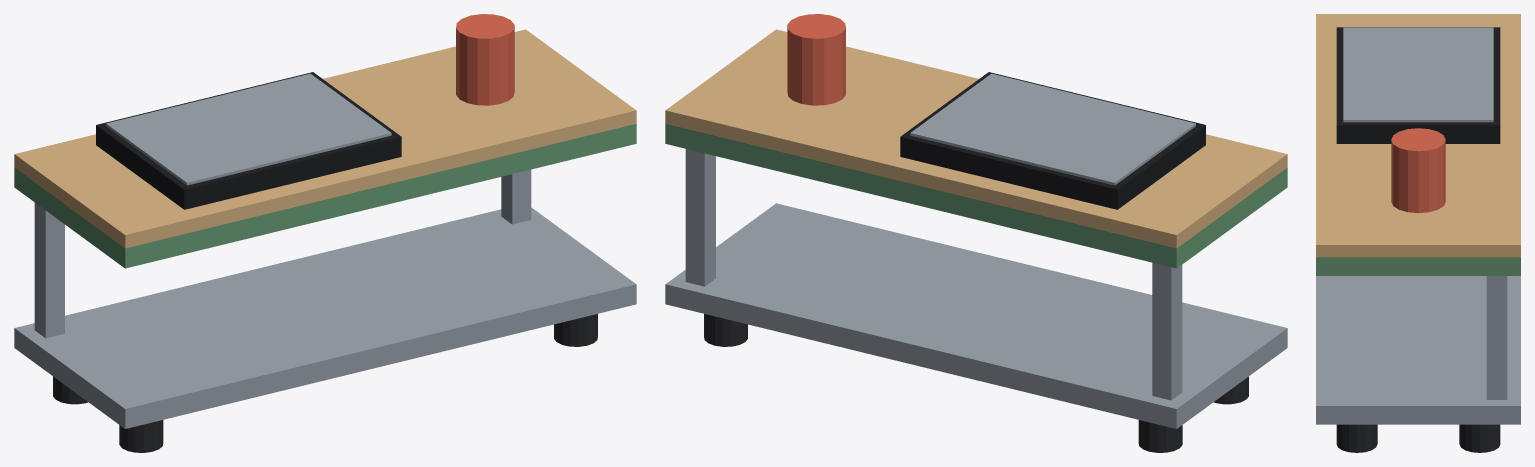
File: rolling_desk.glb
3 renders of one model, left to right at view 1: azimuth 30°, elevation 25°; view 2: azimuth 150°, elevation 25°; view 3: azimuth 270°, elevation 25°, orthographic. The views are drawn at different scales.
Visible parts, largest first — view 1: rolling_desk_Body; view 2: rolling_desk_Body; view 3: rolling_desk_Body.
Part boxes in pixels (x1,y1,x2,y2): rolling_desk_Body: (14,14,636,452); rolling_desk_Body: (665,14,1287,452); rolling_desk_Body: (1316,14,1520,452).
Bounding box in the file's own units: 0.8 × 0.45 × 0.3.
